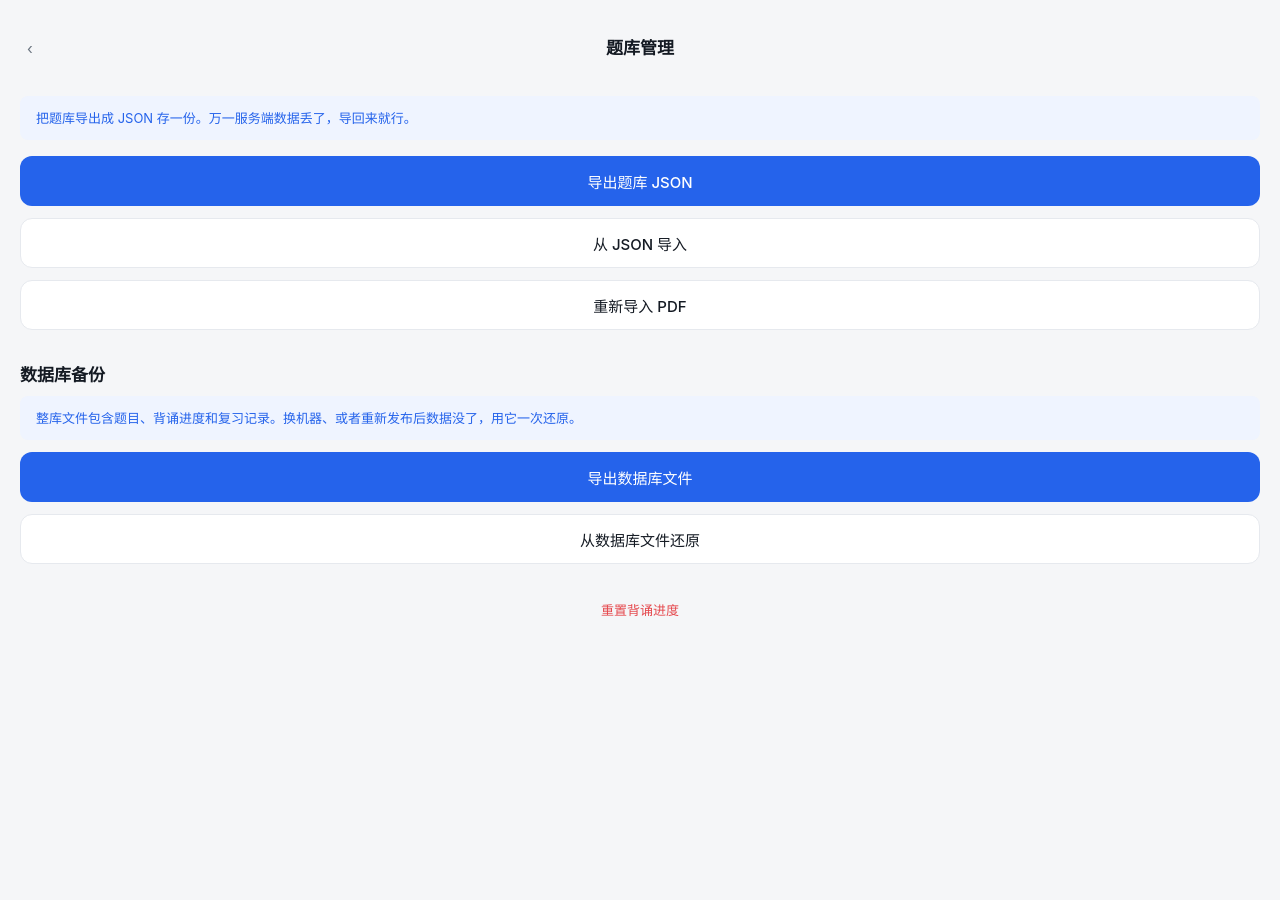
Test: Bank（数据库文件备份） › 导出整库文件：拿到二进制就触发下载
Click the button "导出数据库文件" at {"x": 640, "y": 477}, box [20,452,1260,502]
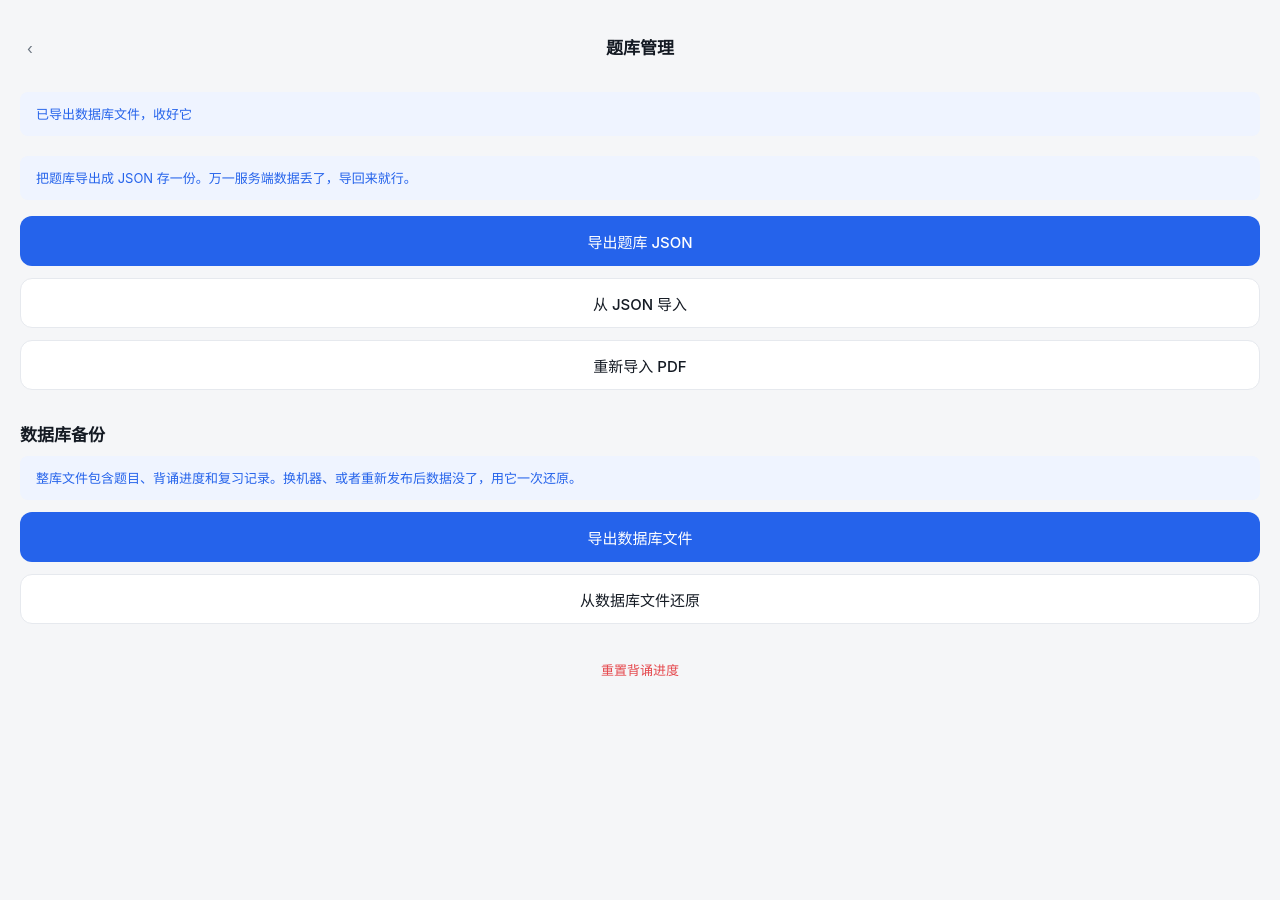
Result: the text "已导出数据库文件，收好它" is shown at [20,92,1260,136]
